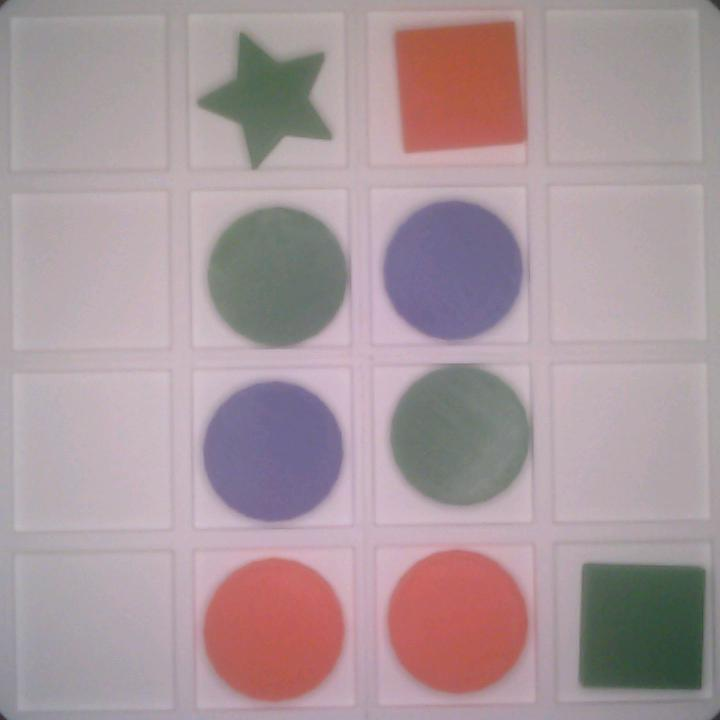Blue circle: (201, 374, 344, 522), (383, 201, 526, 340)
Green circle: (205, 204, 350, 351), (389, 369, 527, 508)
Green square: (577, 558, 708, 696)
Green star: (197, 33, 336, 168)
Orange circle: (200, 560, 345, 701), (390, 553, 529, 691)
Orange square: (389, 20, 528, 157)
